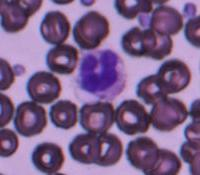N: (76, 46, 127, 102)
